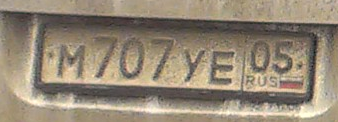character: (89, 33, 119, 84), (148, 34, 176, 85), (119, 33, 145, 84), (56, 43, 87, 83), (208, 48, 237, 86), (180, 46, 205, 87), (273, 38, 295, 75), (249, 39, 271, 73)
